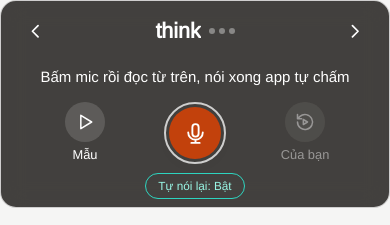
SpeakCheck › says when nothing was heard
The width and height of the screenshot is (390, 225).
Step 1. Click the button named "Nói thử" → x=195, y=133, box [169,107,221,159]
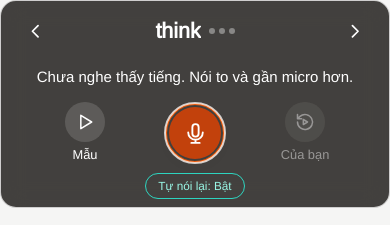
Expected: the message shows "Chưa nghe thấy tiếng", [37,68,353,85]
